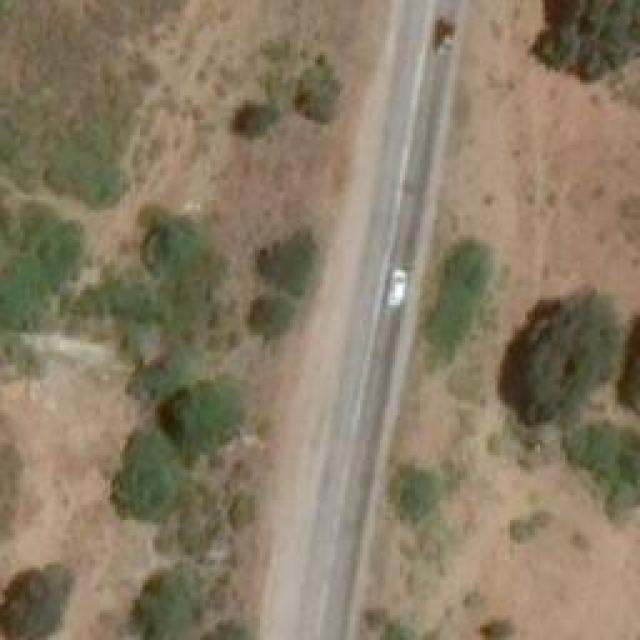Tree: (498, 298, 611, 408), (532, 0, 639, 82), (422, 240, 494, 355), (158, 380, 243, 470), (562, 417, 640, 515), (0, 560, 72, 637), (105, 433, 165, 518), (135, 570, 200, 640), (257, 227, 315, 295), (390, 462, 445, 520), (243, 295, 286, 338), (233, 98, 278, 133), (295, 88, 338, 121), (193, 615, 246, 640), (375, 620, 420, 640)
